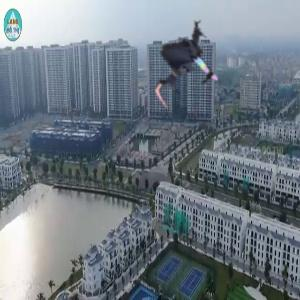drone: (139, 19, 234, 114)
